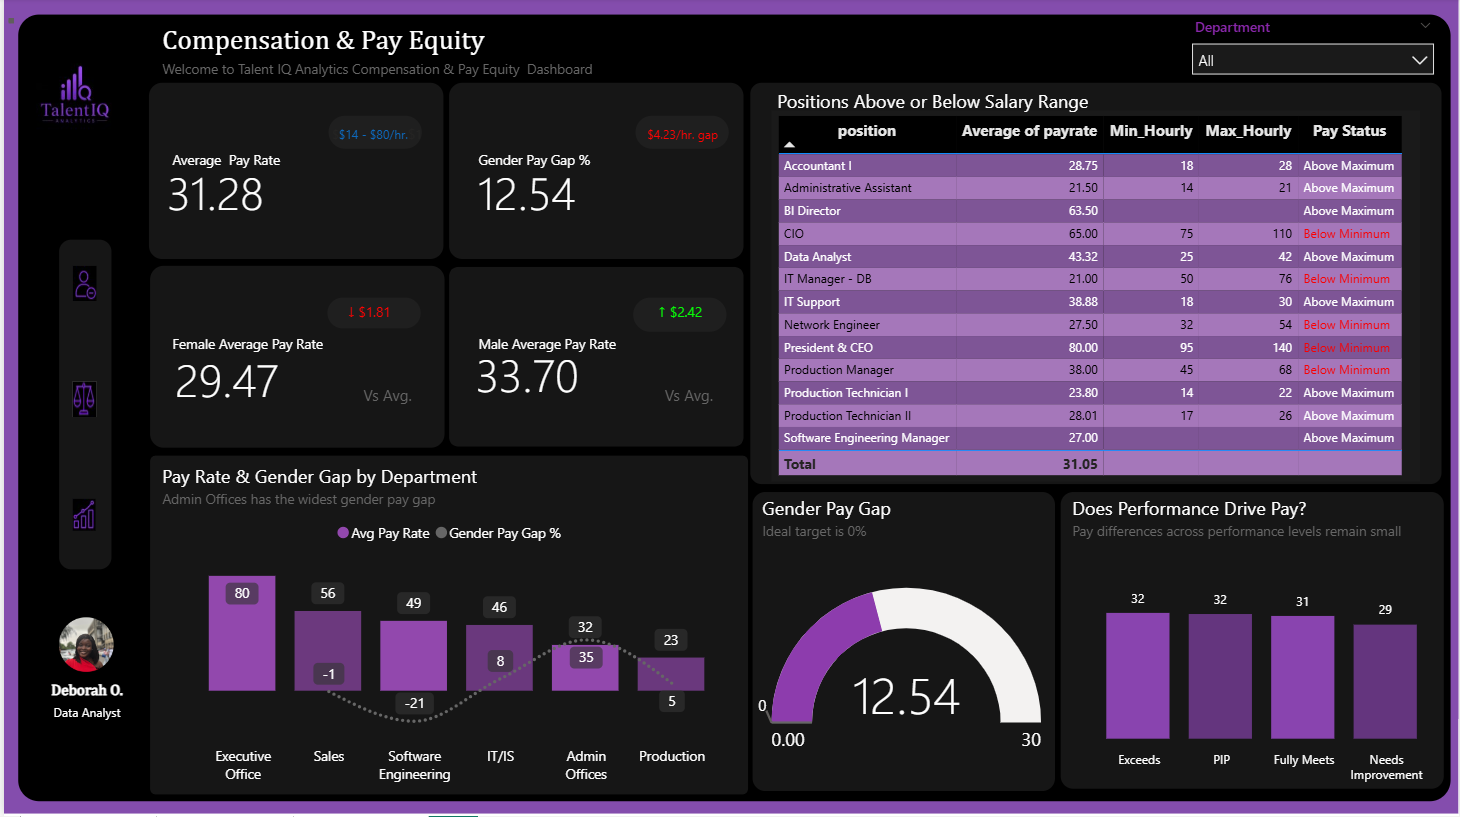

Layout of this report page (visuals, bound fields, positions):
{"tool":"powerbi","page":{"name":"Dashboard 2","canvas":[1280,720],"ordinal":1},"visuals":[{"type":"card","fields":{"Values":["hr_employees_cleaned.Avg Pay Rate"]},"box":[131,141.7,110.7,58.3],"z":0},{"type":"textbox","box":[142.9,127.4,116.7,28.6],"z":1000},{"type":"textbox","box":[283.3,104.8,111.9,36.9],"z":2000},{"type":"card","fields":{"Values":["hr_employees_cleaned.Gender Pay Gap %"]},"box":[397.6,141.7,123.8,58.3],"z":3000},{"type":"textbox","box":[411.9,127.4,121.4,28.6],"z":4000},{"type":"textbox","box":[560.7,104.8,92.9,36.9],"z":5000},{"type":"card","fields":{"Values":["hr_employees_cleaned.Female Avg Pay Rate"]},"box":[142.9,304.8,107.1,60.7],"z":6000},{"type":"textbox","box":[142.9,289.3,157.1,28.6],"z":7000},{"type":"textbox","box":[283.3,261.9,78.6,36.9],"z":8000},{"type":"textbox","box":[310.7,335.7,70.2,34.5],"z":9000},{"type":"card","fields":{"Values":["hr_employees_cleaned.Male Avg Pay Rate"]},"box":[398.8,309.5,122.6,44],"z":10000},{"type":"textbox","box":[411.9,289.3,164.3,28.6],"z":11000},{"type":"textbox","box":[551.2,261.9,88.1,36.9],"z":12000},{"type":"textbox","box":[576.2,335.7,77.4,28.6],"z":13000},{"type":"tableEx","fields":{"Values":["hr_employees_cleaned.position","Avg(hr_employees_cleaned.payrate)","salary_grid-1 (2).Min_Hourly","salary_grid-1 (2).Max_Hourly","hr_employees_cleaned.Pay Status"]},"box":[675,98.8,570.2,326.2],"z":14000},{"type":"actionButton","box":[0,0,13.1,40.5],"z":15000},{"type":"textbox","box":[675,75,604.8,38.1],"z":16000},{"type":"lineClusteredColumnComboChart","fields":{"Category":["hr_employees_cleaned.department"],"Y":["hr_employees_cleaned.Avg Pay Rate"],"Y2":["hr_employees_cleaned.Gender Pay Gap %"]},"box":[134.5,451.2,519.1,247.6],"z":17000},{"type":"textbox","box":[134.5,404.8,472.6,54.8],"z":18000},{"type":"gauge","fields":{"Y":["hr_employees_cleaned.Gender Pay Gap %"],"MaxValue":["hr_employees_cleaned.Max"],"TargetValue":["hr_employees_cleaned.Target"]},"box":[653.6,489.3,264.3,209.5],"z":19000},{"type":"textbox","box":[661.9,432.1,264.3,57.1],"z":20000},{"type":"clusteredColumnChart","fields":{"Category":["hr_employees_cleaned.performancescore"],"Y":["Avg(hr_employees_cleaned.payrate)"]},"box":[926.2,504.8,353.6,194],"z":21000},{"type":"textbox","box":[934.5,432.1,333.3,57.1],"z":22000},{"type":"slicer","fields":{"Values":["hr_employees_cleaned.department"]},"box":[1034.5,11.9,233.3,63.1],"z":23000},{"type":"textbox","box":[134.5,20.2,860.7,70.2],"z":24000},{"type":"actionButton","box":[59.5,233.3,26.2,36.9],"z":25000},{"type":"actionButton","box":[59.5,335.7,26.2,34.5],"z":26000},{"type":"image","box":[48.8,542.9,47.6,51.2],"z":26001},{"type":"textbox","box":[23.8,594.1,97.6,64.3],"z":26002}]}

Visuals, with their boxes on the page's 1280x720 design canvas (x1, y1, x2, y2). These are canvas units, not pixel positions in the 1460x817 screenshot, which may show the page scaled, cropped or inside an application window:
card - hr_employees_cleaned.Avg Pay Rate: select_region(131, 142, 242, 200)
textbox: select_region(143, 127, 260, 156)
textbox: select_region(283, 105, 395, 142)
card - hr_employees_cleaned.Gender Pay Gap %: select_region(398, 142, 521, 200)
textbox: select_region(412, 127, 533, 156)
textbox: select_region(561, 105, 654, 142)
card - hr_employees_cleaned.Female Avg Pay Rate: select_region(143, 305, 250, 366)
textbox: select_region(143, 289, 300, 318)
textbox: select_region(283, 262, 362, 299)
textbox: select_region(311, 336, 381, 370)
card - hr_employees_cleaned.Male Avg Pay Rate: select_region(399, 310, 521, 354)
textbox: select_region(412, 289, 576, 318)
textbox: select_region(551, 262, 639, 299)
textbox: select_region(576, 336, 654, 364)
tableEx - hr_employees_cleaned.position x Avg(hr_employees_cleaned.payrate): select_region(675, 99, 1245, 425)
actionButton: select_region(0, 0, 13, 40)
textbox: select_region(675, 75, 1280, 113)
lineClusteredColumnComboChart - hr_employees_cleaned.department x hr_employees_cleaned.Avg Pay Rate: select_region(134, 451, 654, 699)
textbox: select_region(134, 405, 607, 460)
gauge - hr_employees_cleaned.Gender Pay Gap % x hr_employees_cleaned.Max: select_region(654, 489, 918, 699)
textbox: select_region(662, 432, 926, 489)
clusteredColumnChart - hr_employees_cleaned.performancescore x Avg(hr_employees_cleaned.payrate): select_region(926, 505, 1280, 699)
textbox: select_region(934, 432, 1268, 489)
slicer - hr_employees_cleaned.department: select_region(1034, 12, 1268, 75)
textbox: select_region(134, 20, 995, 90)
actionButton: select_region(60, 233, 86, 270)
actionButton: select_region(60, 336, 86, 370)
image: select_region(49, 543, 96, 594)
textbox: select_region(24, 594, 121, 658)
